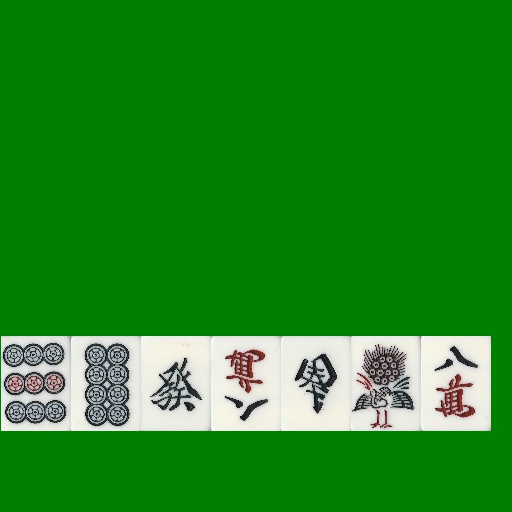1s: (351, 336, 421, 431)
8m: (211, 336, 281, 431), (421, 336, 491, 431)
8p: (71, 336, 141, 431)
9p: (1, 336, 71, 431)
hatsu: (141, 336, 211, 431)
south: (281, 336, 351, 431)
